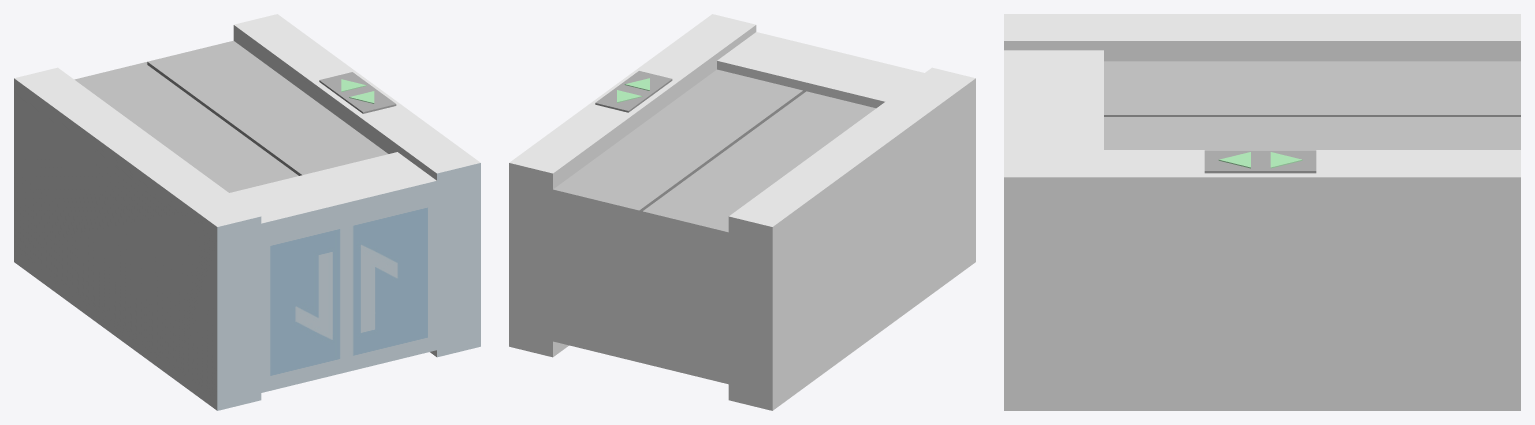
3 renders of one model, left to right at view 1: azimuth 30°, elevation 25°; view 2: azimuth 150°, elevation 25°; view 3: azimuth 270°, elevation 25°, orthographic. The views are drawn at different scales.
Visible parts, largest first — view 1: 双向垂直电梯; view 2: 双向垂直电梯; view 3: 双向垂直电梯.
Part boxes in pixels (x1,y1,x2,y2): 双向垂直电梯: (14, 14, 480, 410); 双向垂直电梯: (509, 14, 975, 410); 双向垂直电梯: (1004, 14, 1520, 410).
Size of the model in its own units: 3 by 2.07 by 4.01.
Materials: 11 (1 with a texture image).
